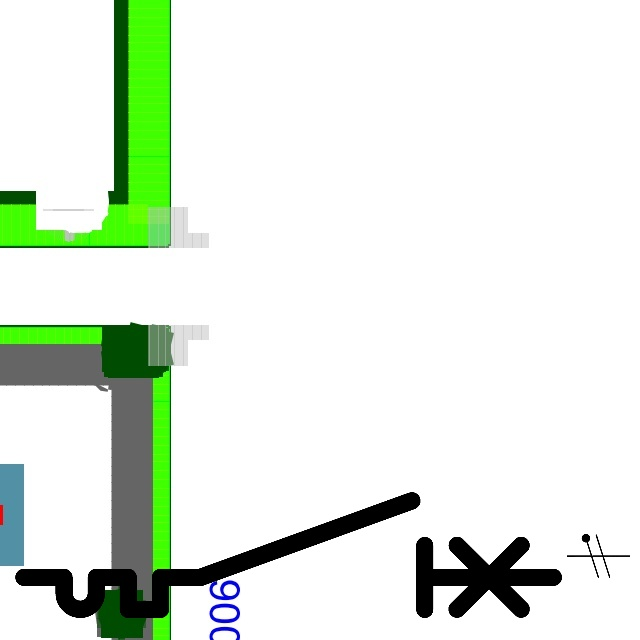interruptor_termomagnetico: (10, 487, 567, 623)
